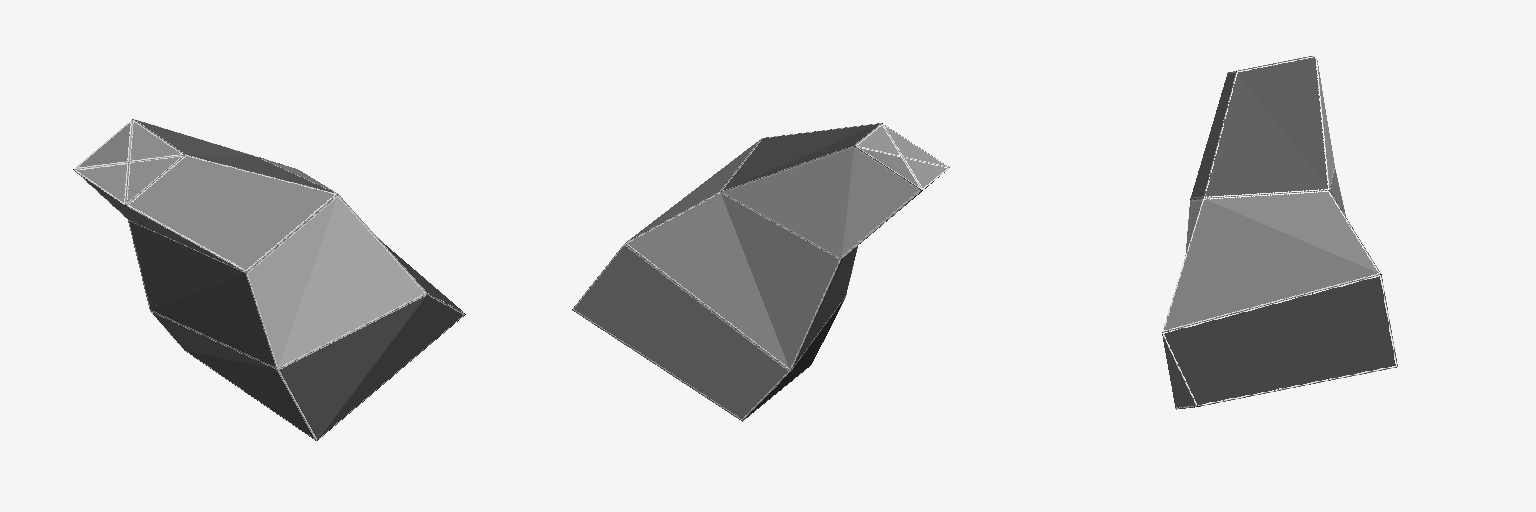
3 renders of one model, left to right at view 1: azimuth 30°, elevation 25°; view 2: azimuth 150°, elevation 25°; view 3: azimuth 270°, elevation 25°, orthographic.
Visible parts, largest first — view 1: Plane; view 2: Plane; view 3: Plane.
Boxes of the visible parts, x1=… form: Plane: x1=73, y1=119, x2=465, y2=440; Plane: x1=572, y1=123, x2=949, y2=421; Plane: x1=1162, y1=56, x2=1397, y2=409.
Bounding box in the file's own units: 0.3778 × 0.3198 × 0.2291.
Materials: 1 (1 with a texture image).